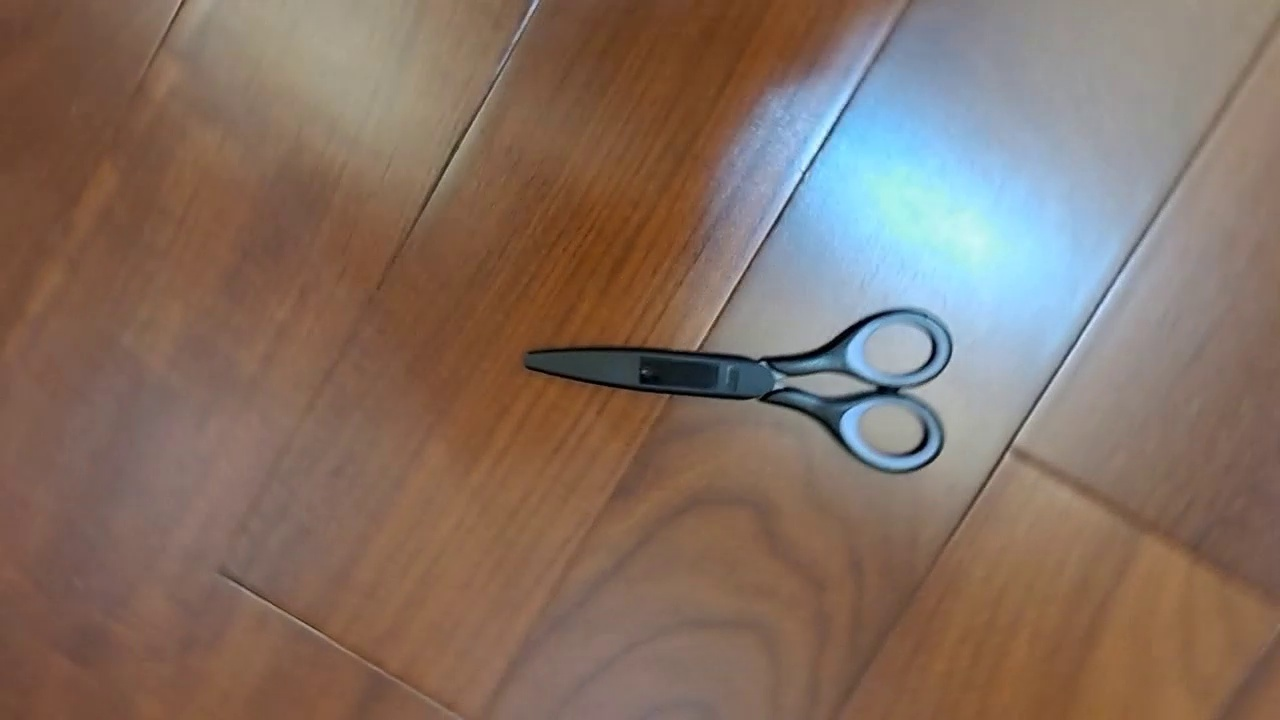scissors: (523, 307, 953, 474)
